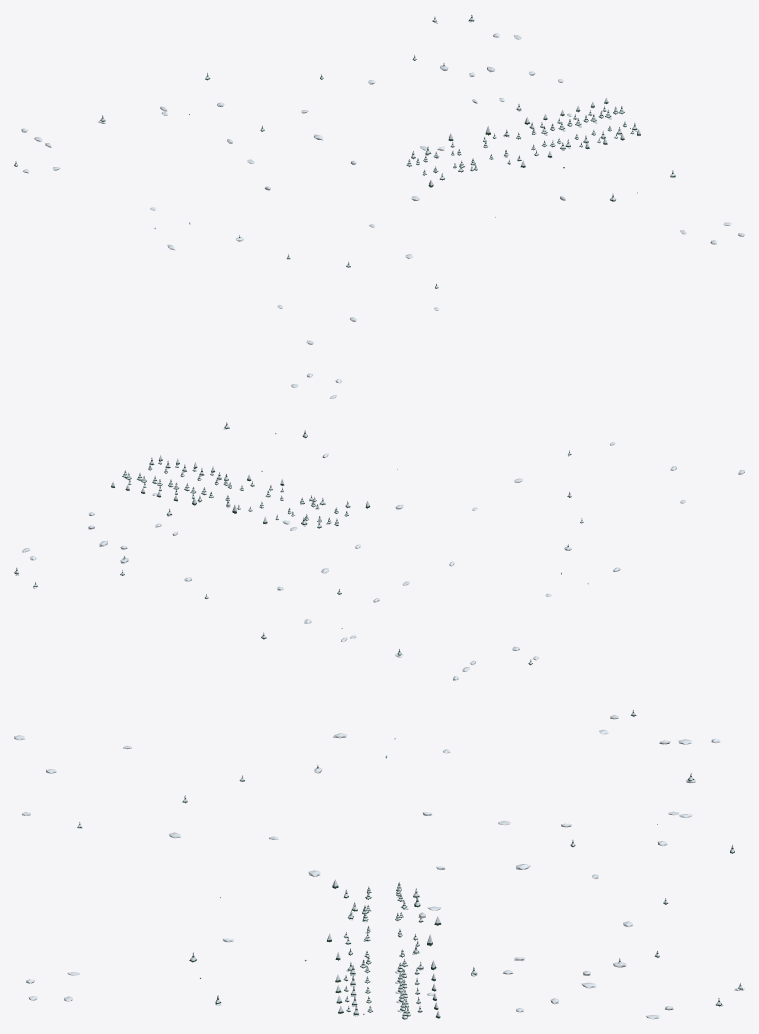
File: Fill_1_0.fbx
3 renders of one model, top to bottom at view 1: azimuth 30°, elevation 25°; view 2: azimuth 150°, elevation 25°; view 3: azimuth 270°, elevation 25°, orthographic. The views are drawn at different scales.
Parts seen in each view (by area): view 1: Fill_1_0; view 2: Fill_1_0; view 3: Fill_1_0.
Boxes of the visible parts, x1,y1,x2,y2 form: Fill_1_0: (14,14,744,344); Fill_1_0: (14,373,744,680); Fill_1_0: (14,709,744,1019).
Bounding box in the file's own units: 57381 × 1222 × 58598.
